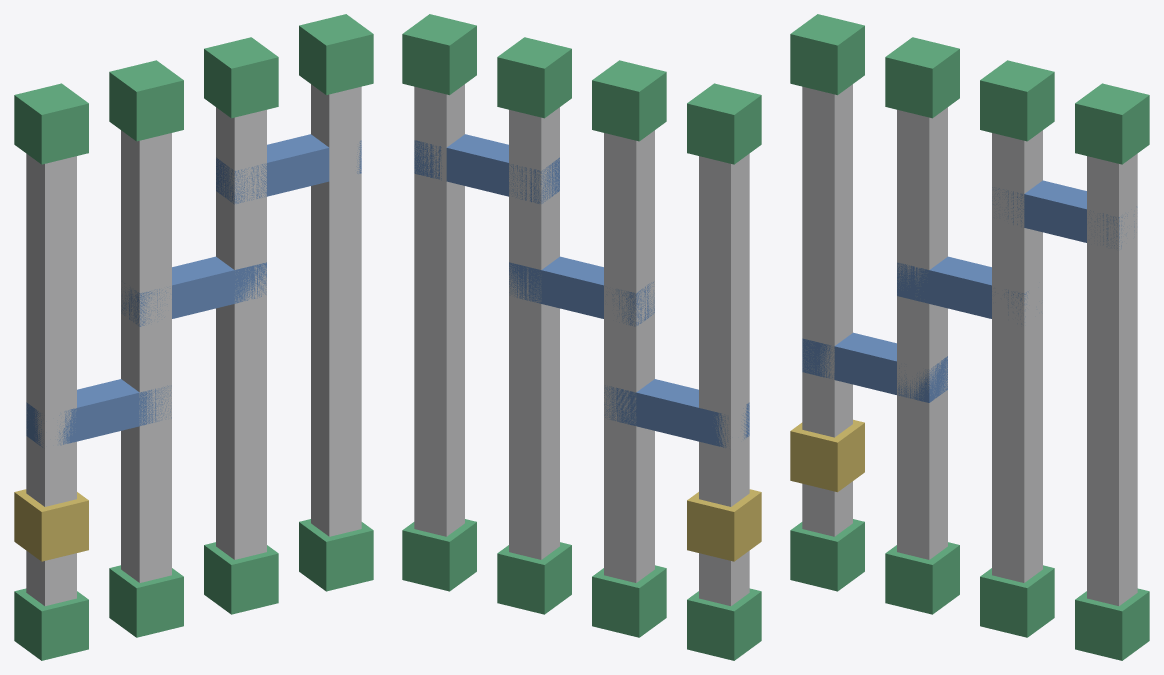
Rendered from ls_ghz4.glb.
3 renders of one model, left to right at view 1: azimuth 30°, elevation 25°; view 2: azimuth 150°, elevation 25°; view 3: azimuth 330°, elevation 25°, orthographic.
Parts seen in each view (by area): view 1: world; view 2: world; view 3: world.
Part boxes in pixels (x1=…): world: x1=14, y1=14, x2=373, y2=660; world: x1=402, y1=14, x2=761, y2=660; world: x1=790, y1=14, x2=1149, y2=660.
Bounding box in the file's own units: 3.5 × 5.5 × 0.5.
